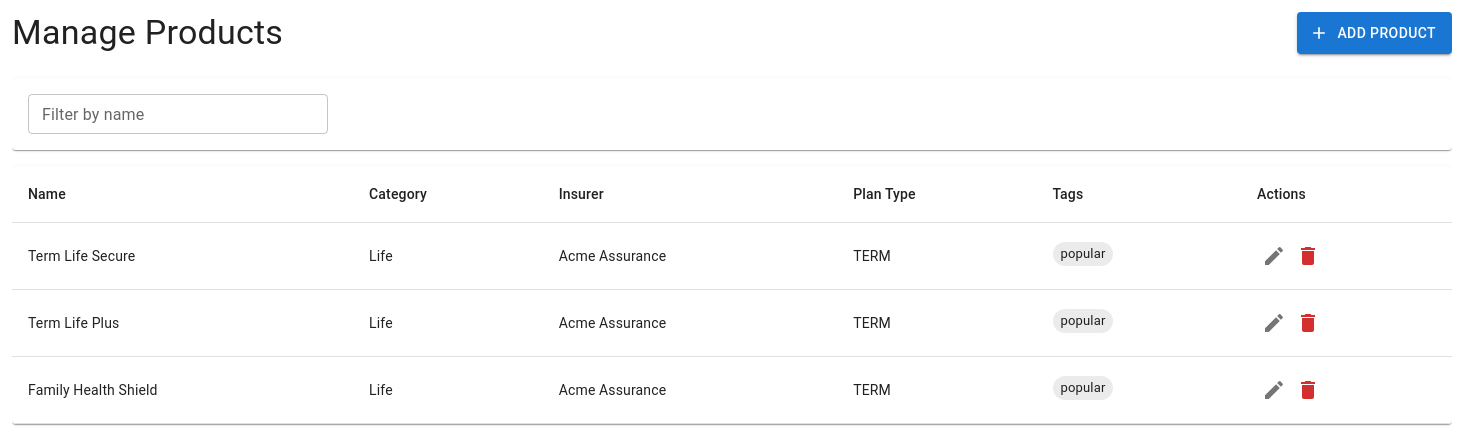
it: ProductManagement name filter › renders every product the server returns for a partial term
expect the text "Family Health Shield" is shown: met, box [12,356,353,424]
In the field labelled "Filter by name": point(178, 114) [28,94,328,134], type "Term"
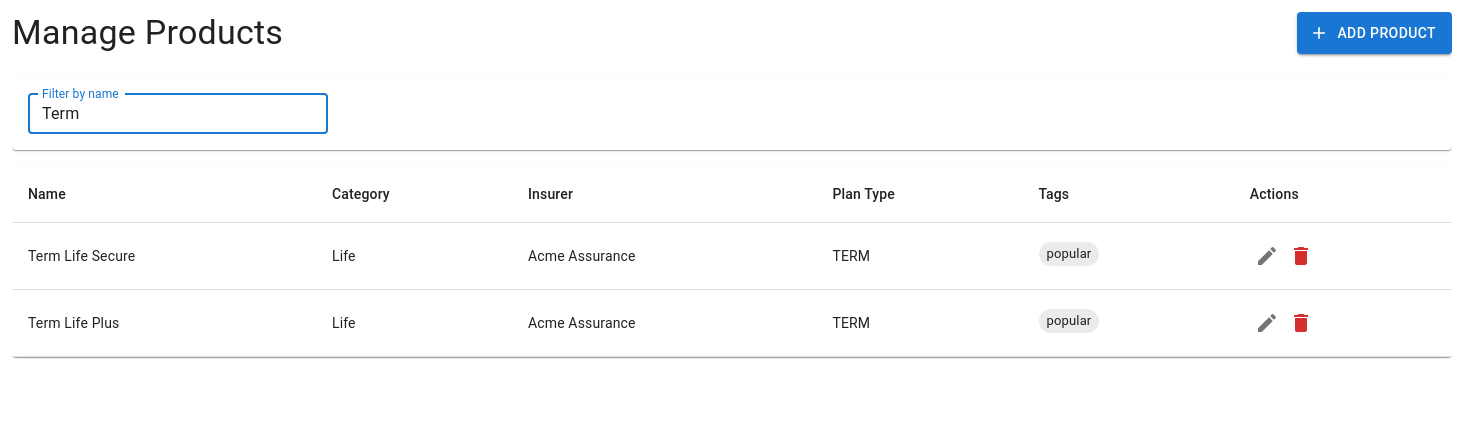
expect the text "Family Health Shield" is gone: met
